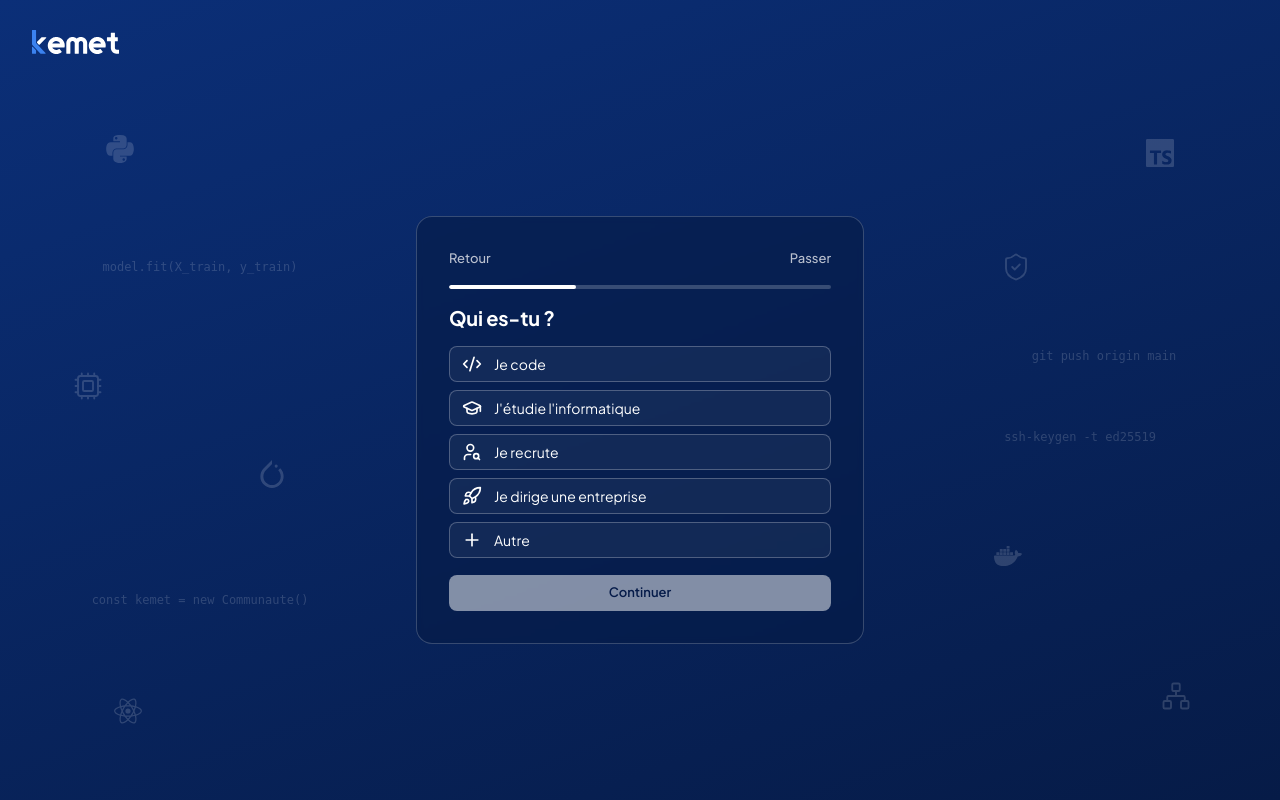
Test: IntroQuestionsPage › demande à un recruteur ce qu'il cherche
The image size is (1280, 800).
Later steps or results of the test are not shown.
What coordinates should you click on to do the following:
click the radio button labelled "Je recrute"
I would click on:
 (640, 452)
Its box is [449, 434, 831, 470].
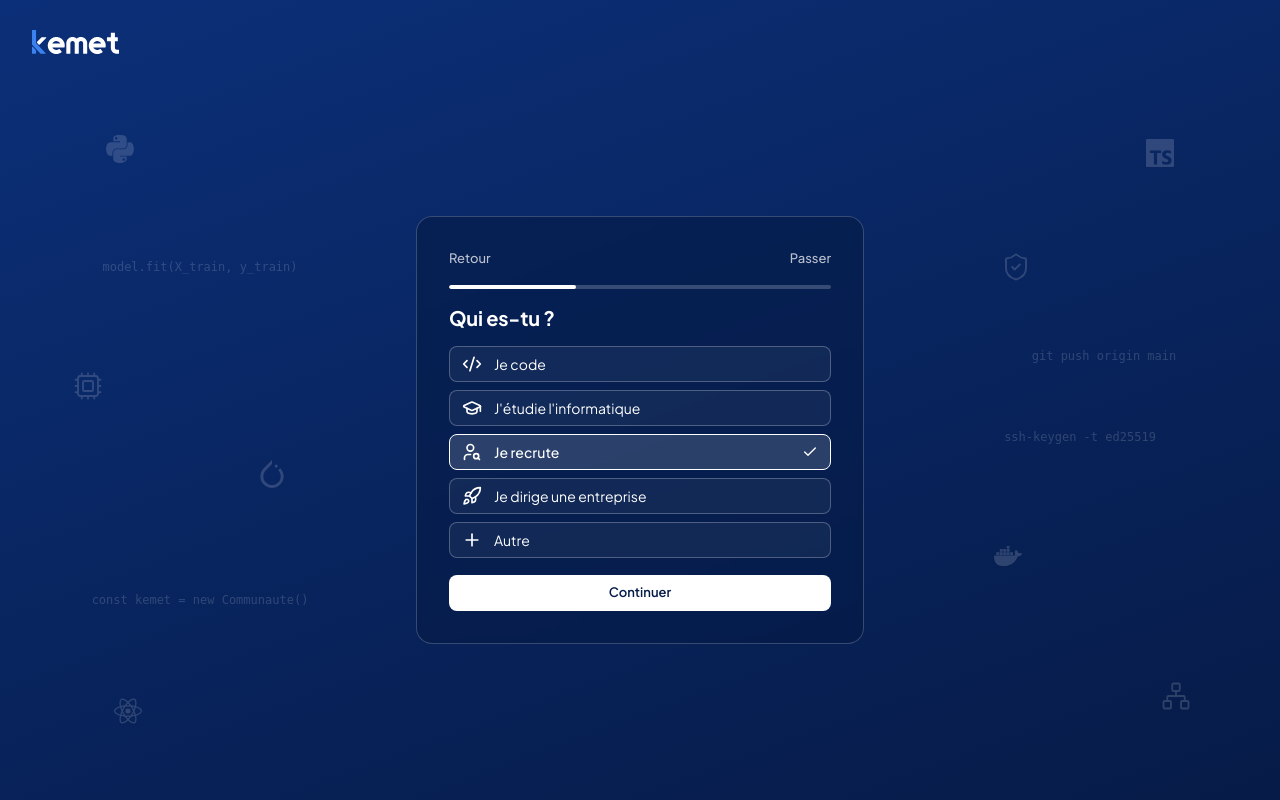
What coordinates should you click on to do the following:
click the button "Continuer"
I would click on:
 (640, 593)
Its box is [449, 575, 831, 611].
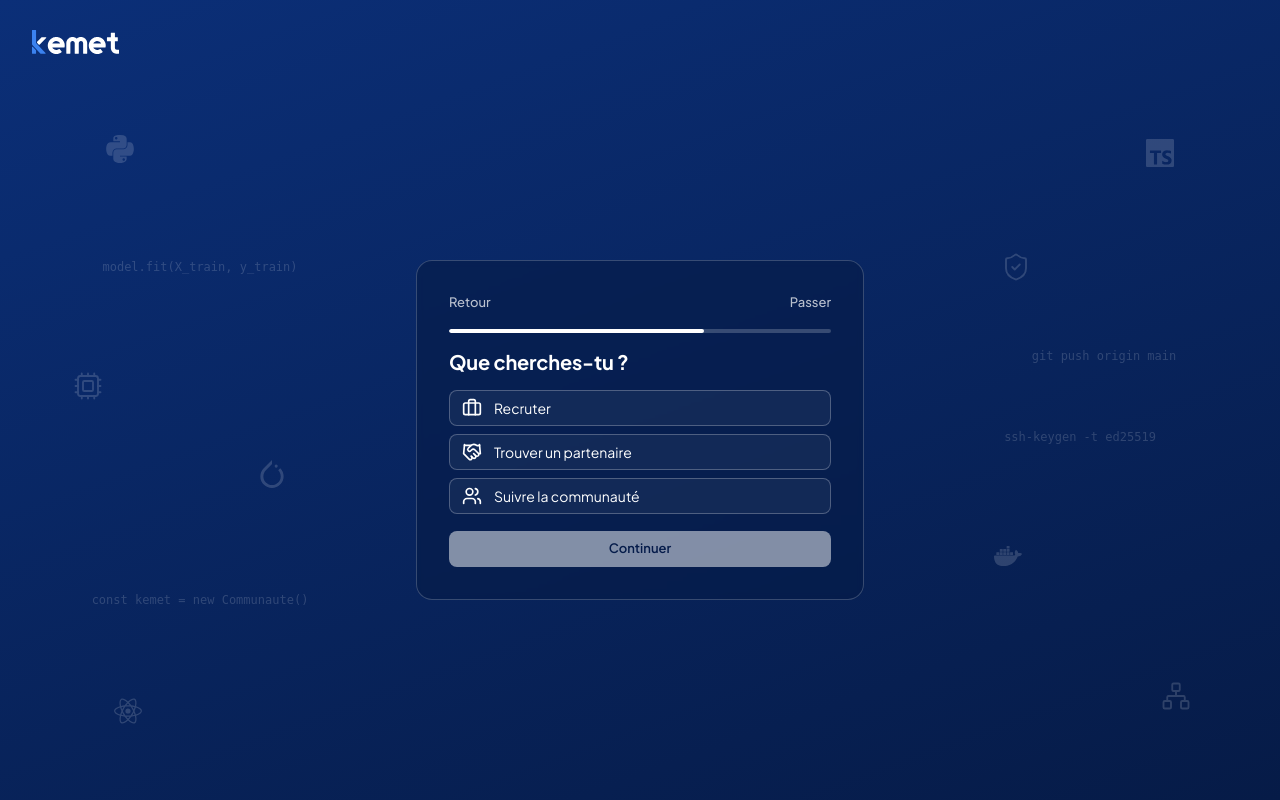
Check: the heading "Que cherches-tu ?" is shown, box [449, 349, 628, 374]
